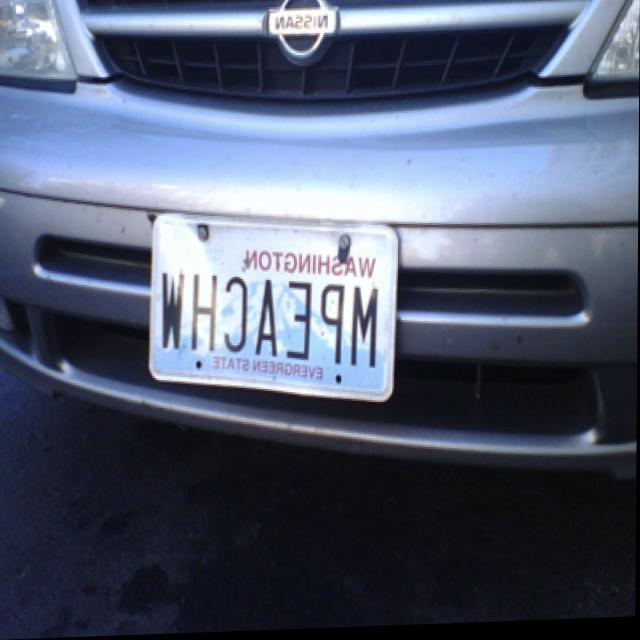licence: (150, 227, 399, 378)
